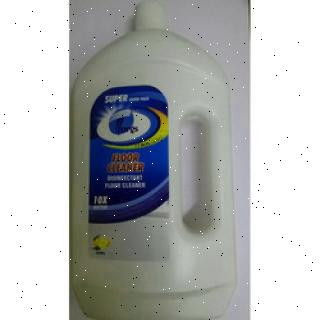Plastic-bottle: (71, 3, 239, 320)
